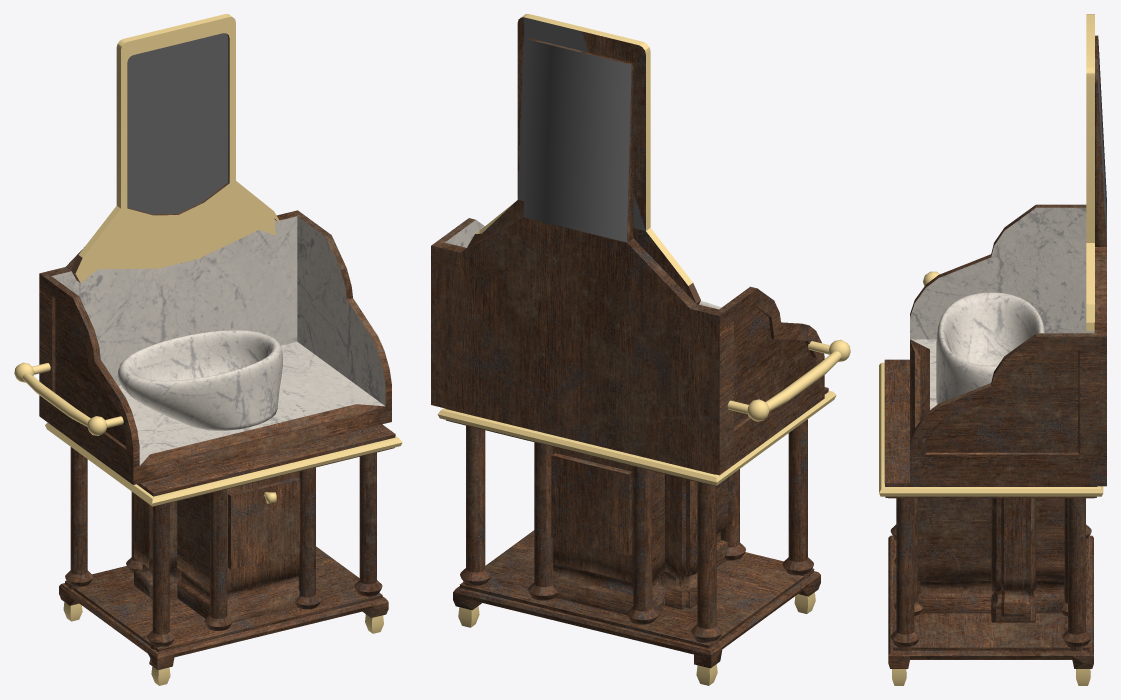
The model's file is umivalnik.fbx.
The picture shows the model from 3 angles, left to right: view 1: azimuth 30°, elevation 25°; view 2: azimuth 150°, elevation 25°; view 3: azimuth 270°, elevation 25°; orthographic projection. The views are drawn at different scales.
Parts seen in each view (by area): view 1: umivalnik; view 2: umivalnik; view 3: umivalnik.
Boxes of the visible parts, left/top/right/bottom form: umivalnik: left=14, top=14, right=402, bottom=685; umivalnik: left=431, top=14, right=850, bottom=685; umivalnik: left=879, top=14, right=1106, bottom=685.
Bounding box in the file's own units: 2100 × 3861 × 1355.
